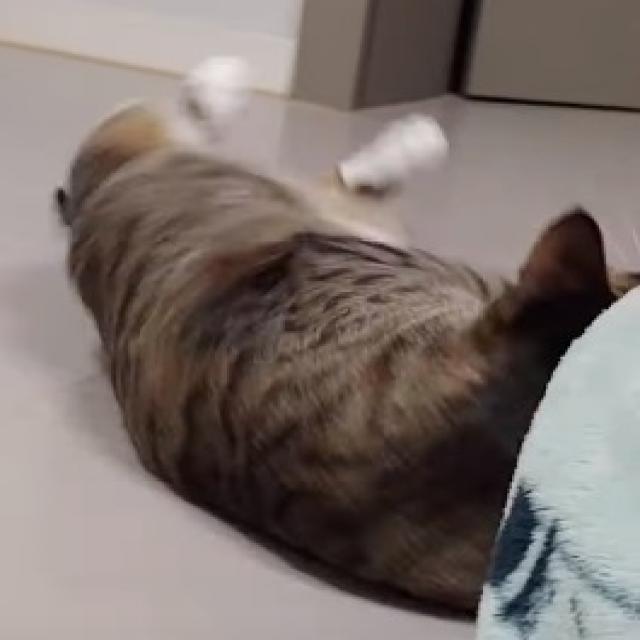cat: (45, 51, 640, 624)
